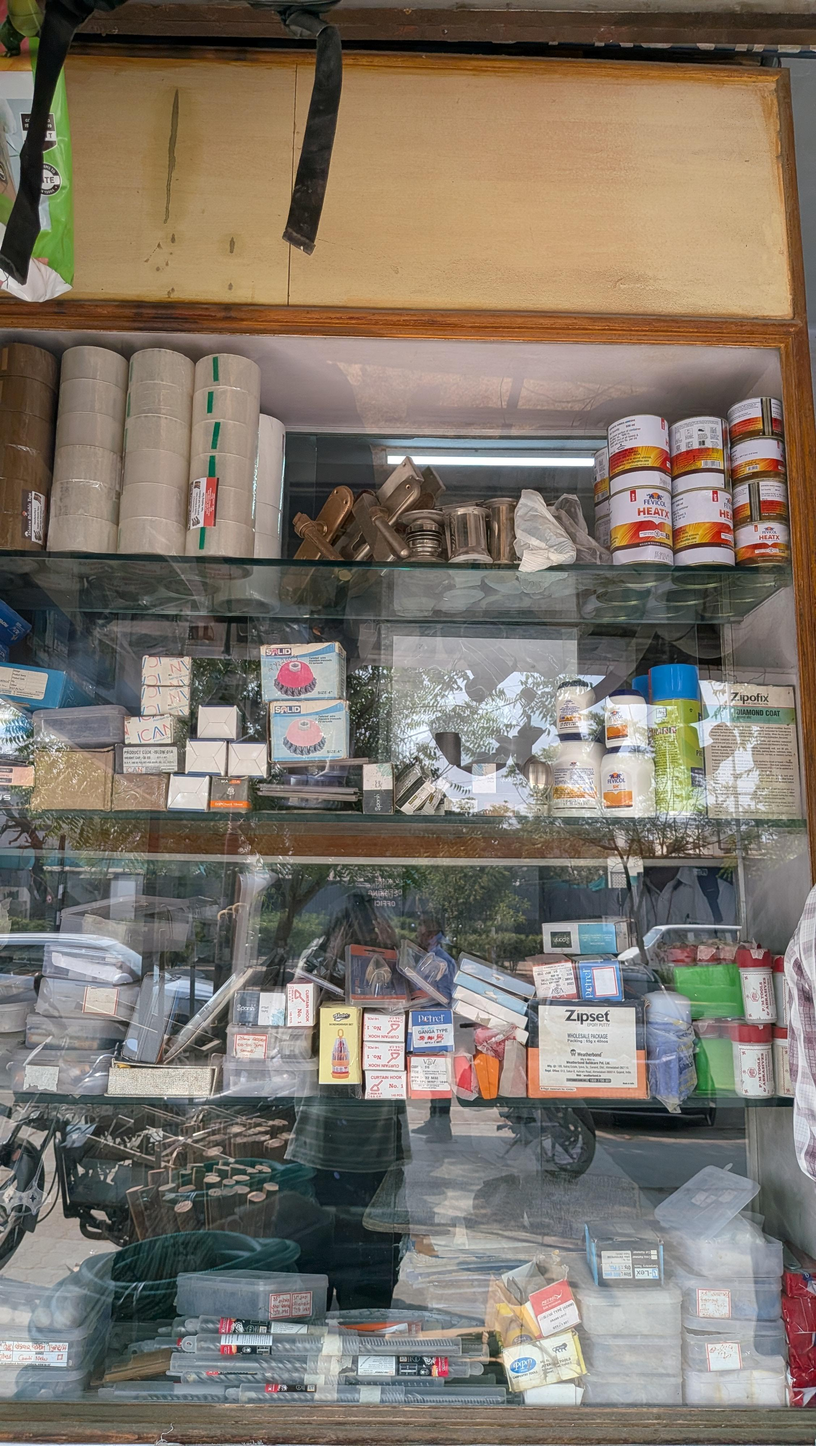Fevicol_HEATX: (607, 415, 675, 496), (610, 484, 673, 565), (672, 417, 735, 495), (672, 487, 734, 565), (733, 480, 790, 532), (730, 438, 788, 489), (726, 397, 786, 446), (735, 521, 790, 565), (594, 445, 610, 521)
